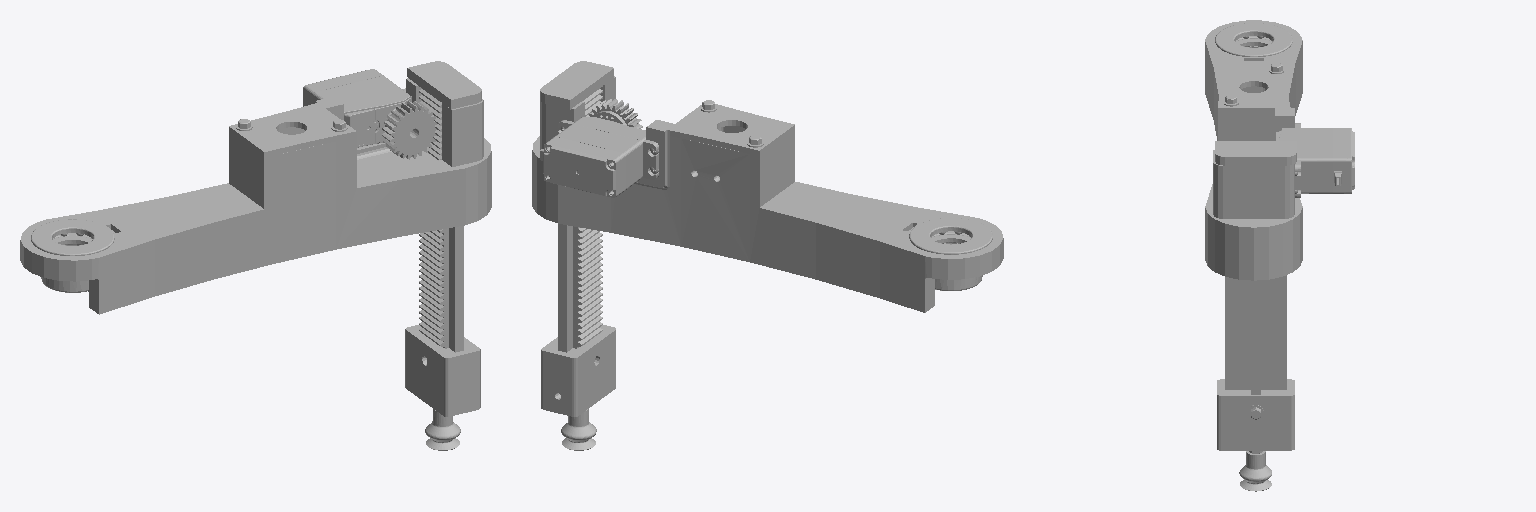
The robot description file, URDF, robot "urdf_2":
<?xml version="1.0" encoding="utf-8"?>
<!-- This URDF was automatically created by SolidWorks to URDF Exporter! Originally created by Stephen Brawner (brawner@gmail.com) 
     Commit Version: 1.6.0-4-g7f85cfe  Build Version: 1.6.7995.38578
     For more information, please see http://wiki.ros.org/sw_urdf_exporter -->
<robot
  name="urdf_2">
  <link
    name="base_link">
    <inertial>
      <origin
        xyz="0.122985978770505 0.00170462638094407 0.0433587448960147"
        rpy="0 0 0" />
      <mass
        value="1.39504052645811" />
      <inertia
        ixx="0.00199983279616353"
        ixy="-5.62345467617821E-07"
        ixz="-0.000171505475604186"
        iyy="0.00418198355186288"
        iyz="-8.28558113844637E-07"
        izz="0.00499893510879797" />
    </inertial>
    <visual>
      <origin
        xyz="0 0 0"
        rpy="0 0 0" />
      <geometry>
        <mesh
          filename="package://urdf_2/meshes/base_link.STL" />
      </geometry>
      <material
        name="">
        <color
          rgba="0.752941176470588 0.752941176470588 0.752941176470588 1" />
      </material>
    </visual>
    <collision>
      <origin
        xyz="0 0 0"
        rpy="0 0 0" />
      <geometry>
        <mesh
          filename="package://urdf_2/meshes/base_link.STL" />
      </geometry>
    </collision>
  </link>
  <link
    name="brazo_link">
    <inertial>
      <origin
        xyz="0.0753094506753342 -1.04709665431024E-05 0.173042945912701"
        rpy="0 0 0" />
      <mass
        value="0.464728606139161" />
      <inertia
        ixx="0.000184778705020802"
        ixy="2.98483848319851E-09"
        ixz="-8.98034695450042E-07"
        iyy="0.00150375762423027"
        iyz="-1.27623178759219E-08"
        izz="0.00145708555193549" />
    </inertial>
    <visual>
      <origin
        xyz="0 0 0"
        rpy="0 0 0" />
      <geometry>
        <mesh
          filename="package://urdf_2/meshes/brazo_link.STL" />
      </geometry>
      <material
        name="">
        <color
          rgba="0.752941176470588 0.752941176470588 0.752941176470588 1" />
      </material>
    </visual>
    <collision>
      <origin
        xyz="0 0 0"
        rpy="0 0 0" />
      <geometry>
        <mesh
          filename="package://urdf_2/meshes/brazo_link.STL" />
      </geometry>
    </collision>
  </link>
  <joint
    name="brazo_joint"
    type="revolute">
    <origin
      xyz="0.2225 0 0"
      rpy="0 0 0" />
    <parent
      link="base_link" />
    <child
      link="brazo_link" />
    <axis
      xyz="0 0 1" />
    <limit
      lower="-2.95"
      upper="2.95"
      effort="0"
      velocity="0" />
  </joint>
  <link
    name="antebrazo_link">
    <inertial>
      <origin
        xyz="0.120217132825741 0.00253204414843628 0.0138134925752733"
        rpy="0 0 0" />
      <mass
        value="0.337833417763749" />
      <inertia
        ixx="9.43467400260195E-05"
        ixy="-3.43784195903844E-06"
        ixz="-4.69808398753309E-05"
        iyy="0.00136135886292181"
        iyz="-1.7571811510851E-06"
        izz="0.00135870464166609" />
    </inertial>
    <visual>
      <origin
        xyz="0 0 0"
        rpy="0 0 0" />
      <geometry>
        <mesh
          filename="package://urdf_2/meshes/antebrazo_link.STL" />
      </geometry>
      <material
        name="">
        <color
          rgba="0.752941176470588 0.752941176470588 0.752941176470588 1" />
      </material>
    </visual>
    <collision>
      <origin
        xyz="0 0 0"
        rpy="0 0 0" />
      <geometry>
        <mesh
          filename="package://urdf_2/meshes/antebrazo_link.STL" />
      </geometry>
    </collision>
  </link>
  <joint
    name="antebrazo_joint"
    type="revolute">
    <origin
      xyz="0.20188 -0.00036684 0.15187"
      rpy="0 0 0" />
    <parent
      link="brazo_link" />
    <child
      link="antebrazo_link" />
    <axis
      xyz="0 0 1" />
    <limit
      lower="-2.94"
      upper="2.94"
      effort="0"
      velocity="0" />
  </joint>
  <link
    name="efector_link">
    <inertial>
      <origin
        xyz="-0.000199408254429434 3.01101120966581E-05 -0.0920126337195022"
        rpy="0 0 0" />
      <mass
        value="0.0645715511467495" />
      <inertia
        ixx="9.90251938365928E-05"
        ixy="1.0267039223115E-11"
        ixz="4.8234755973393E-07"
        iyy="9.44222116975048E-05"
        iyz="-1.02338899145191E-08"
        izz="7.29772053845675E-06" />
    </inertial>
    <visual>
      <origin
        xyz="0 0 0"
        rpy="0 0 0" />
      <geometry>
        <mesh
          filename="package://urdf_2/meshes/efector_link.STL" />
      </geometry>
      <material
        name="">
        <color
          rgba="0.752941176470588 0.752941176470588 0.752941176470588 1" />
      </material>
    </visual>
    <collision>
      <origin
        xyz="0 0 0"
        rpy="0 0 0" />
      <geometry>
        <mesh
          filename="package://urdf_2/meshes/efector_link.STL" />
      </geometry>
    </collision>
  </link>
  <joint
    name="efector_joint"
    type="prismatic">
    <origin
      xyz="0.20445 0.001 -0.13418"
      rpy="3.1416 0 0" />
    <parent
      link="antebrazo_link" />
    <child
      link="efector_link" />
    <axis
      xyz="0 0 1" />
    <limit
      lower="-0.2"
      upper="0"
      effort="0"
      velocity="0" />
  </joint>
</robot>

--- Facts derived from the render (not from the file) ---
3 views of the same robot in one strip: view 1: azimuth 30°, elevation 25°; view 2: azimuth 150°, elevation 25°; view 3: azimuth 270°, elevation 25° (orthographic).
Robot: urdf_2 — 4 links, 3 joints (2 revolute, 1 prismatic); root link base_link; default pose: every joint at zero.
Links seen in each view (by area): view 1: antebrazo_link, efector_link; view 2: antebrazo_link, efector_link; view 3: antebrazo_link, efector_link.
Boxes of the visible links, x1,y1,x2,y2 form: antebrazo_link: [20, 69, 491, 314]; efector_link: [405, 61, 481, 450]; antebrazo_link: [532, 76, 1003, 312]; efector_link: [540, 61, 615, 450]; antebrazo_link: [1205, 20, 1354, 280]; efector_link: [1215, 141, 1296, 491].
Size in the robot's own frame: 0.2516 by 0.0767 by 0.1912 metres.
2 mesh visuals loaded from 4 distinct referenced files (2 binary STL); not drawn: 2 (reference not matched to a file when rendering).
